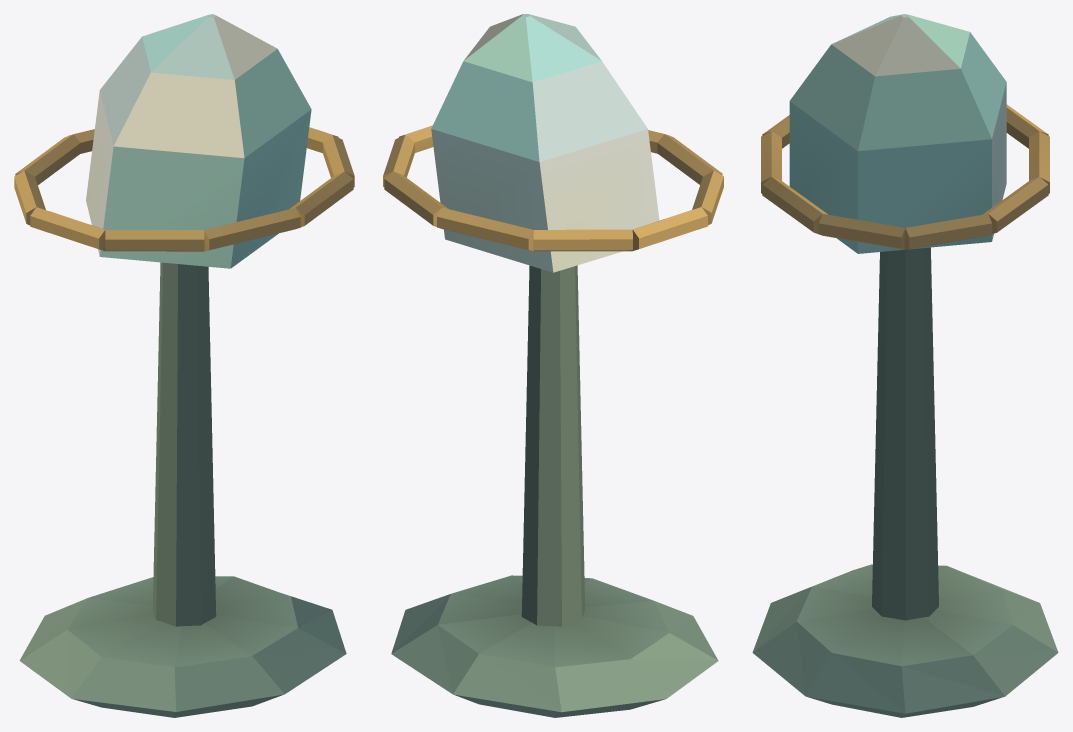
Rendered from furniture_sternlampe.glb.
The picture shows the model from 3 angles, left to right: view 1: azimuth 30°, elevation 25°; view 2: azimuth 150°, elevation 25°; view 3: azimuth 270°, elevation 25°; orthographic projection. The views are drawn at different scales.
Parts seen in each view (by area): view 1: furniture_sternlampe; view 2: furniture_sternlampe; view 3: furniture_sternlampe.
Boxes of the visible parts, x1,y1,x2,y2 form: furniture_sternlampe: (14,14,354,717); furniture_sternlampe: (383,14,723,717); furniture_sternlampe: (752,14,1058,717).
Bounding box in the file's own units: 0.7602 × 1.53 × 0.6303.
